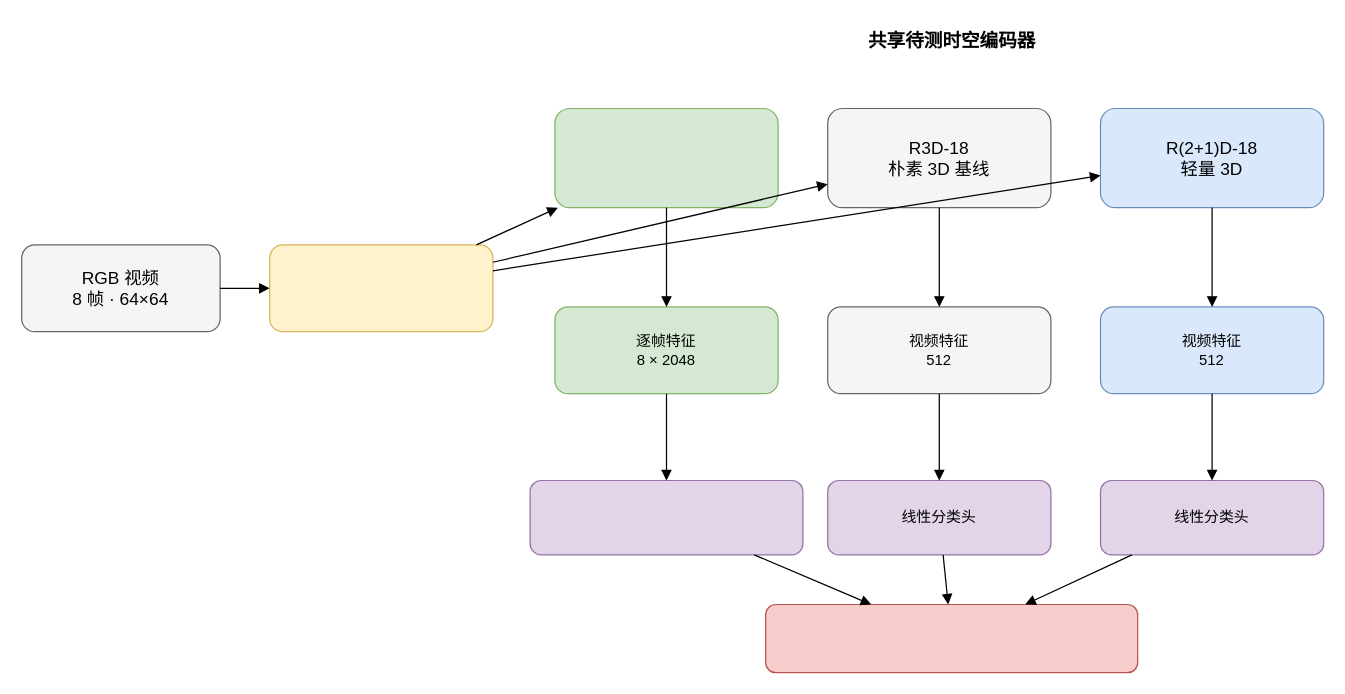
Some shapes in this 1345 by 694 pixel diagram are drawn without their labels. The shapes that lost their labels are listed below. From the top down, each one's box as (x1, y1, x2, y2) in pixels, then its label:
(554, 107, 778, 208): TSN-2D ResNet-50
(268, 244, 493, 332): 采样模块 均匀 / 稠密 / 自适应
(529, 479, 803, 555): 平均池化 / 时序注意力
(764, 603, 1138, 673): 101 类概率 Top-1 / Top-5 / 错误归因
